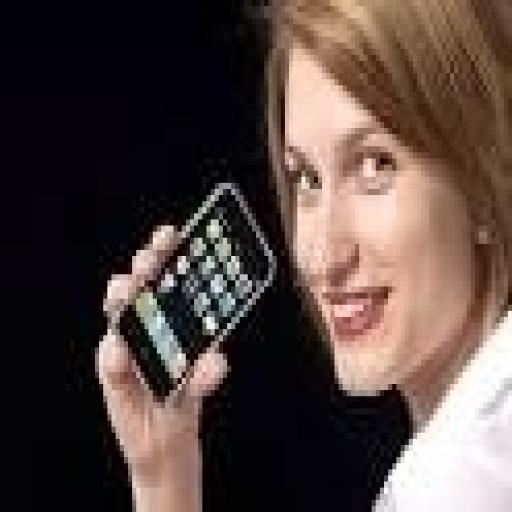texting: (87, 0, 508, 506)
